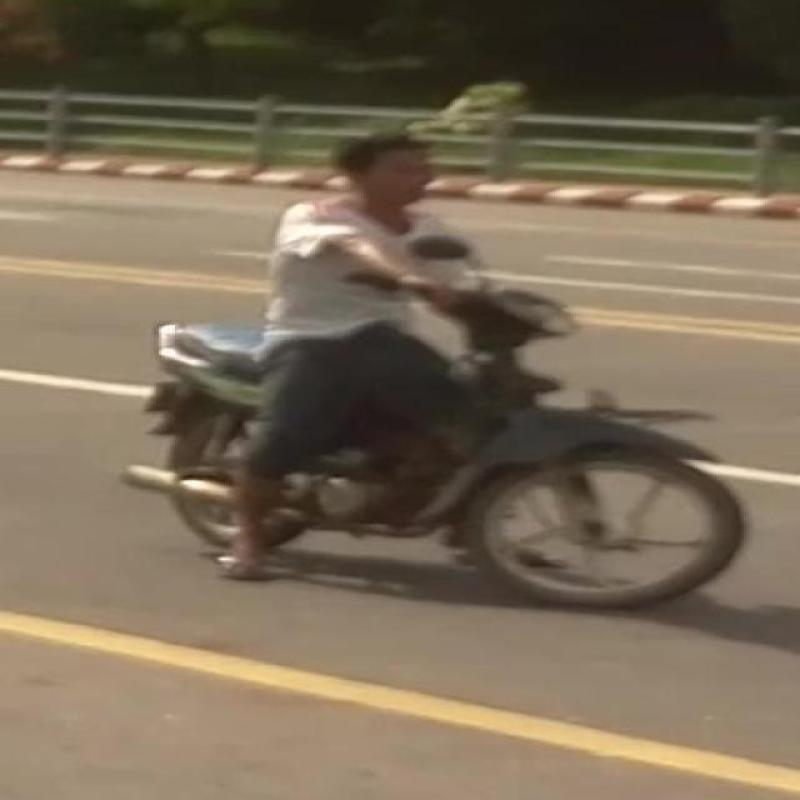nohelmet: (304, 128, 490, 222)
